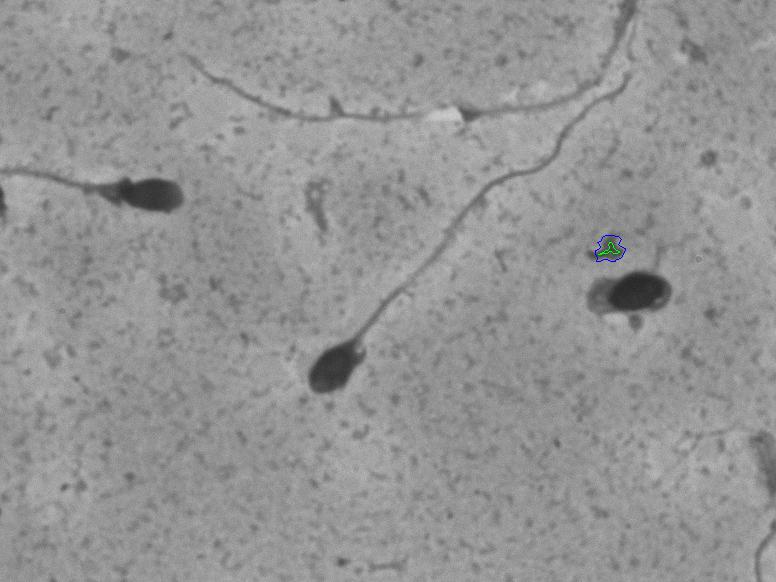Abnormal: (299, 61, 649, 409), (9, 122, 206, 273)
